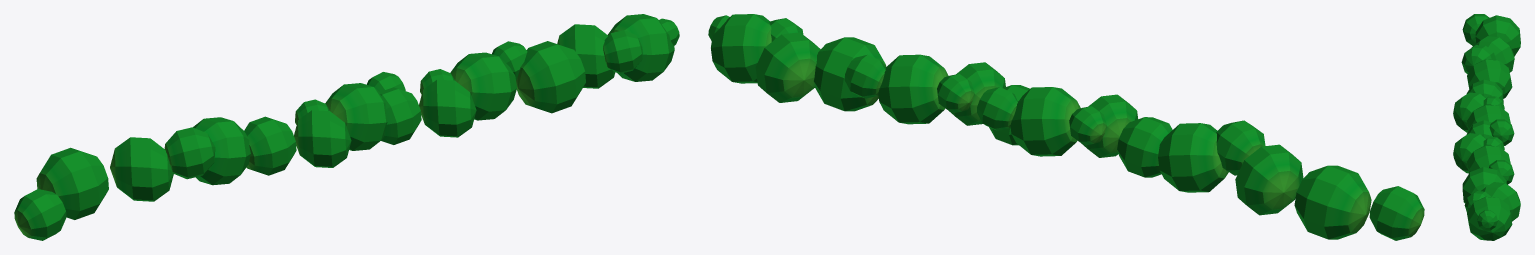
Rendered from bushes_1_3.dae.
The picture shows the model from 3 angles, left to right: view 1: azimuth 30°, elevation 25°; view 2: azimuth 150°, elevation 25°; view 3: azimuth 270°, elevation 25°; orthographic projection. The views are drawn at different scales.
Parts seen in each view (by area): view 1: bushes_1_3; view 2: bushes_1_3; view 3: bushes_1_3.
Boxes of the visible parts, box(x1,y1,x2,y2) form: bushes_1_3: box(14, 14, 679, 240); bushes_1_3: box(708, 14, 1424, 240); bushes_1_3: box(1453, 14, 1520, 240).
Size of the model in its own units: 10.73 by 1.42 by 1.1.
1 material, 1 textured.
